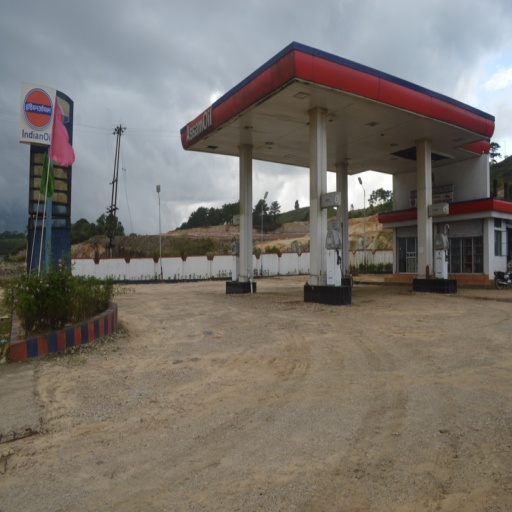roof: (175, 40, 492, 177)
